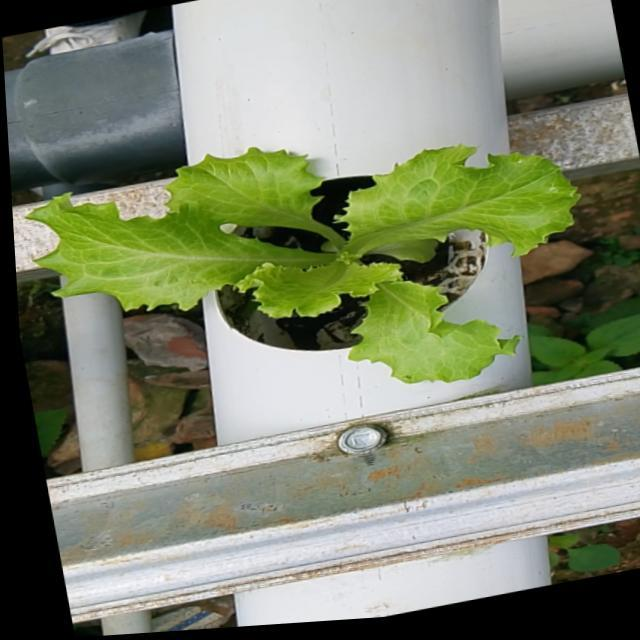Baby: (29, 139, 585, 378)
